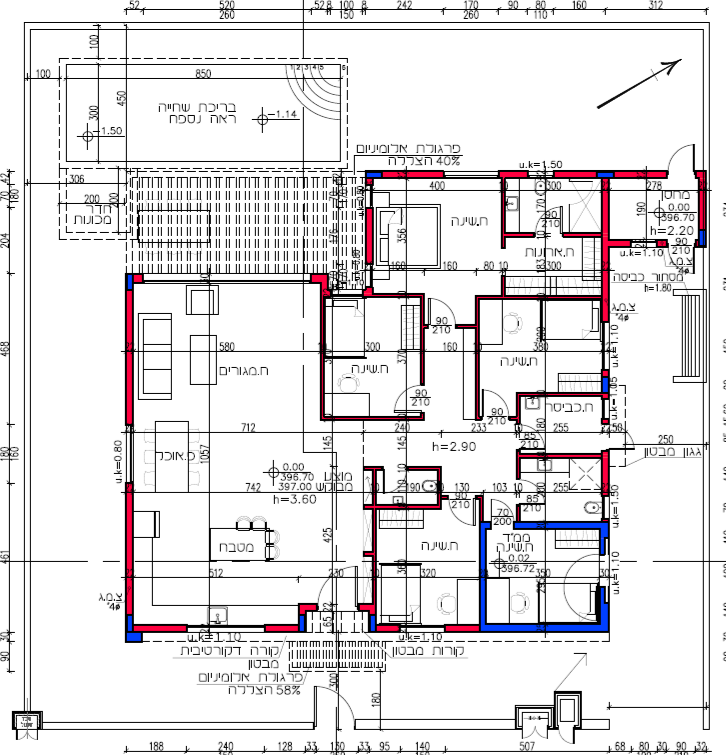door: (312, 564, 363, 600), (660, 139, 699, 183), (389, 381, 419, 416), (481, 386, 511, 413), (427, 295, 458, 319), (556, 724, 578, 748), (489, 492, 507, 512)
wall: (124, 482, 135, 644), (125, 289, 132, 426), (480, 524, 488, 637), (482, 624, 606, 631), (603, 181, 608, 319), (516, 523, 612, 527)
